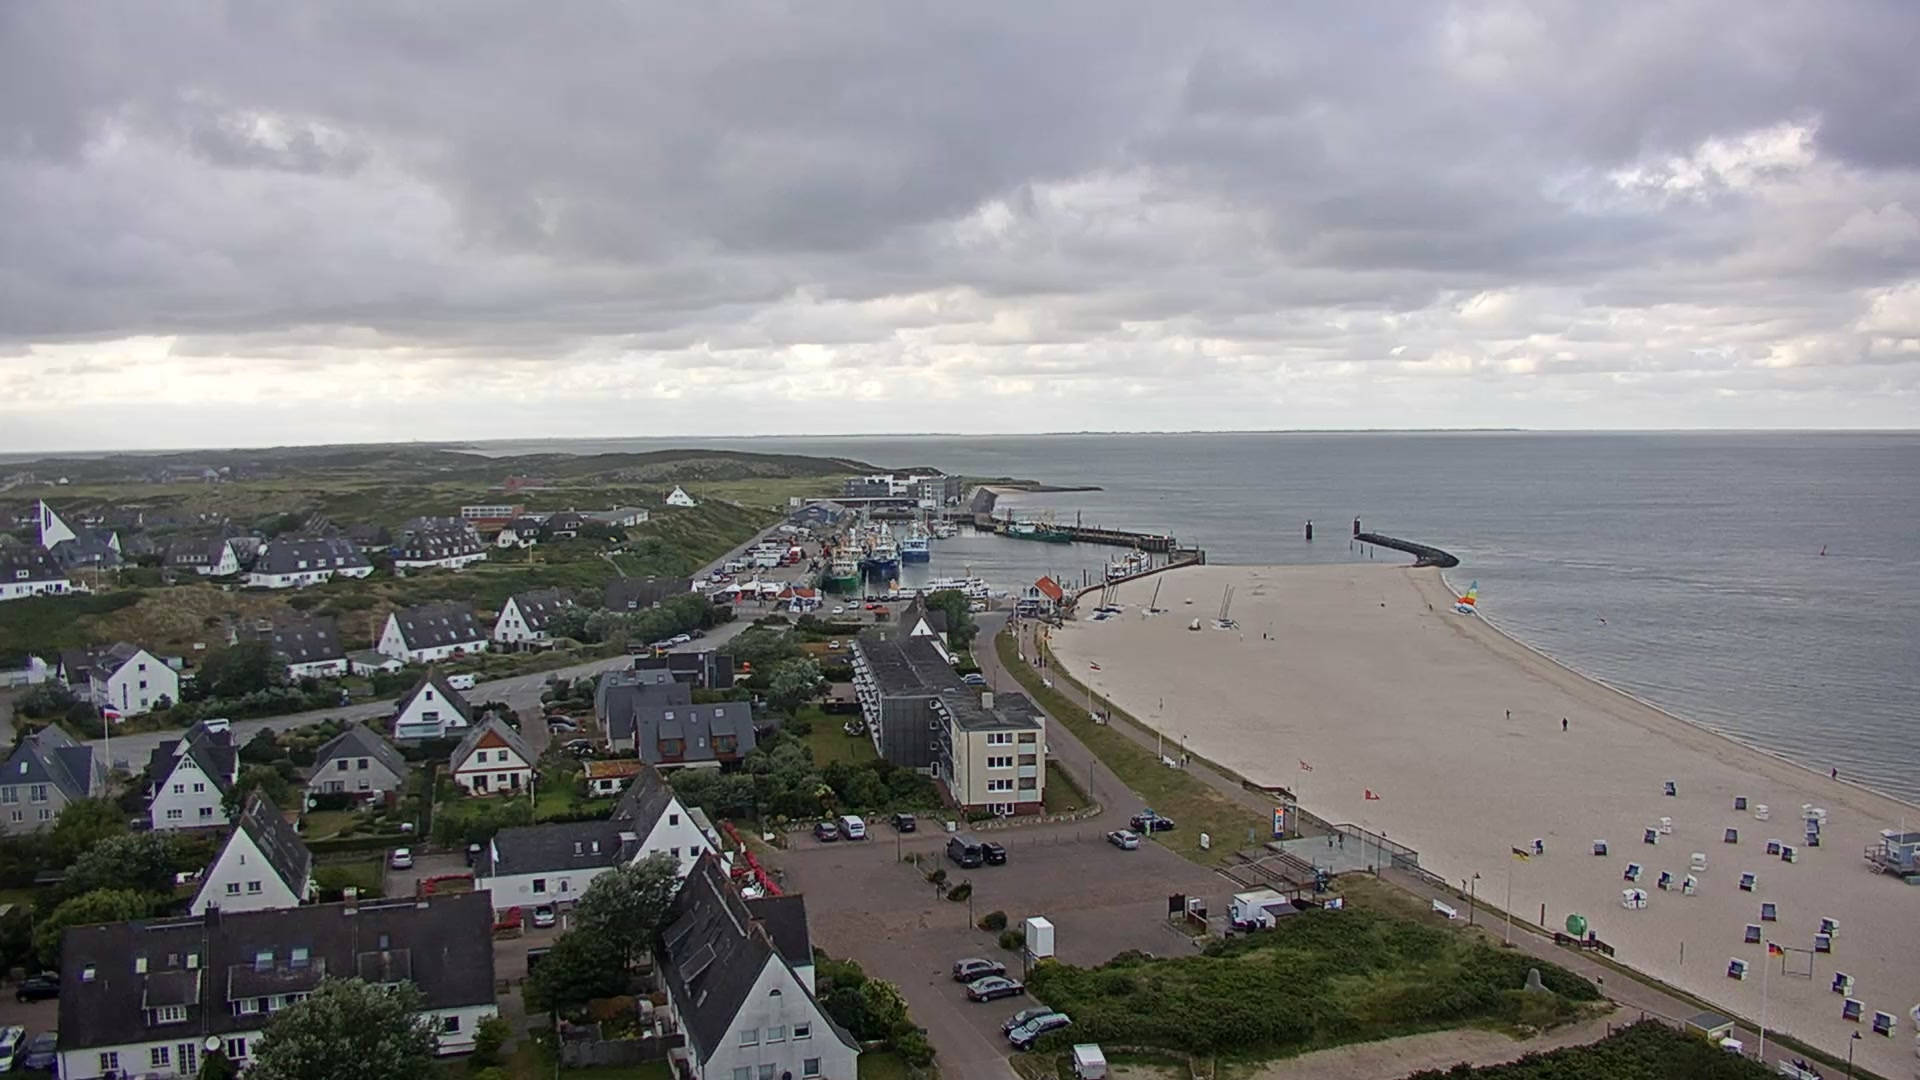human: (1791, 1057, 1807, 1070), (1336, 831, 1345, 849), (1326, 831, 1334, 849), (1829, 765, 1838, 781), (1031, 656, 1038, 667), (1180, 752, 1185, 766), (1562, 716, 1568, 730), (1022, 622, 1028, 633), (1506, 708, 1512, 719), (1107, 710, 1111, 720), (1038, 655, 1043, 666), (1185, 752, 1190, 764), (1262, 631, 1267, 639), (1428, 603, 1434, 611), (1043, 656, 1047, 666), (1239, 632, 1244, 640)
land: (1008, 1010, 1071, 1051), (998, 1004, 1053, 1036), (965, 975, 1025, 1002), (24, 1028, 59, 1070), (945, 832, 982, 870), (951, 957, 1005, 983), (14, 975, 61, 1004), (1, 1022, 28, 1072), (1130, 812, 1174, 830), (837, 814, 865, 840), (1106, 828, 1139, 849), (980, 840, 1007, 864), (890, 811, 916, 834), (532, 903, 555, 927), (445, 673, 475, 690), (390, 846, 413, 869), (813, 822, 838, 843), (201, 717, 230, 733), (465, 842, 483, 867), (625, 642, 652, 656), (547, 713, 576, 725), (562, 737, 590, 748), (967, 599, 986, 613), (548, 722, 575, 733), (649, 637, 673, 648), (724, 562, 745, 574), (669, 632, 690, 642), (959, 671, 982, 680), (962, 675, 986, 685), (688, 628, 704, 639), (829, 640, 840, 650), (831, 605, 843, 615), (847, 600, 858, 609), (866, 594, 875, 601), (781, 560, 790, 568), (881, 594, 889, 601), (843, 594, 851, 601), (703, 574, 711, 581), (713, 567, 721, 575), (874, 603, 883, 609), (866, 602, 873, 610), (891, 595, 899, 601)
sea: (887, 565, 1007, 599), (1107, 542, 1150, 579), (1005, 518, 1072, 542), (823, 559, 860, 593), (1451, 579, 1478, 615), (833, 544, 863, 577), (901, 535, 930, 563), (866, 545, 898, 568), (1216, 583, 1230, 623), (1150, 575, 1163, 614), (1091, 581, 1106, 612), (1223, 586, 1234, 625), (1101, 583, 1116, 615), (1221, 589, 1231, 629), (1106, 578, 1114, 607), (1111, 583, 1120, 607)
